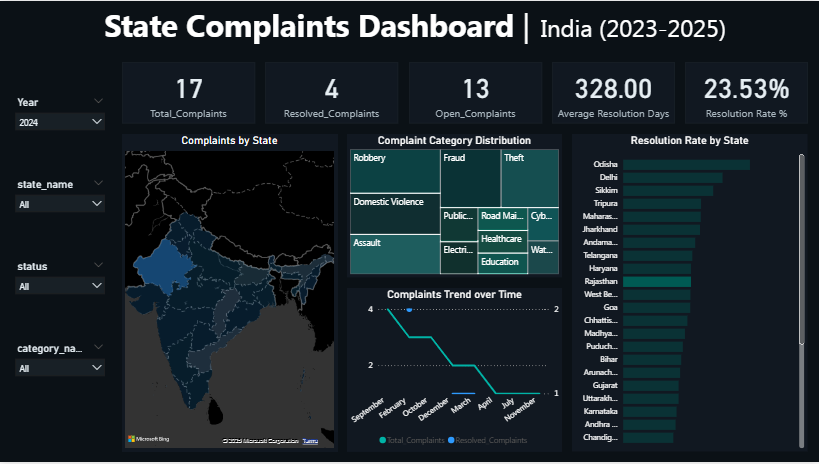

The dashboard page shown, as its layout file describes it:
{"tool":"powerbi","page":{"name":"Page 1","canvas":[1280,720],"ordinal":0},"visuals":[{"type":"card","fields":{"Values":["Base Measures.Average Resolution Days"]},"box":[864,96,192,96],"z":0},{"type":"card","fields":{"Values":["Base Measures.Resolution Rate %"]},"box":[1072,96,192,96],"z":1000},{"type":"card","fields":{"Values":["Base Measures.Open_Complaints"]},"box":[640,96,208,96],"z":2000},{"type":"card","fields":{"Values":["Base Measures.Resolved_Complaints"]},"box":[416,96,208,96],"z":3000},{"type":"card","fields":{"Values":["Base Measures.Total_Complaints"]},"box":[192,96,208,96],"z":4000},{"type":"slicer","fields":{"Values":["complaints_full.Year"]},"box":[16,144,160,64],"z":5000},{"type":"slicer","fields":{"Values":["states_full.state_name"]},"box":[16,272,160,80],"z":6000},{"type":"slicer","fields":{"Values":["complaints_full.status"]},"box":[16,400,160,64],"z":7000},{"type":"slicer","fields":{"Values":["categories_full.category_name"]},"box":[16,528,160,64],"z":8000},{"type":"filledMap","title":"Complaints by State","fields":{"Category":["states_full.state_name"]},"box":[192,208,336,496],"z":9000},{"type":"treemap","title":"Complaint Category Distribution","fields":{"Group":["categories_full.category_name"],"Values":["Base Measures.Total_Complaints"]},"box":[544,208,336,224],"z":10000},{"type":"clusteredBarChart","title":"Resolution Rate by State ","fields":{"Category":["states_full.state_name"],"Y":["Base Measures.Resolution Rate %"]},"box":[896,208,368,496],"z":11000},{"type":"lineChart","title":"Complaints Trend over Time","fields":{"Category":["complaints_full.Month"],"Y":["Base Measures.Total_Complaints"],"Y2":["Base Measures.Resolved_Complaints"]},"box":[544,448,336,256],"z":12000},{"type":"textbox","box":[160,0,1040,80],"z":13000}]}

Visuals, with their boxes in screenshot pixels (x1, y1, x2, y2), scaled from the page's 1280x720 canvas onto the 819x464 screenshot:
card - Base Measures.Average Resolution Days: box=[553, 62, 676, 124]
card - Base Measures.Resolution Rate %: box=[686, 62, 809, 124]
card - Base Measures.Open_Complaints: box=[410, 62, 543, 124]
card - Base Measures.Resolved_Complaints: box=[266, 62, 399, 124]
card - Base Measures.Total_Complaints: box=[123, 62, 256, 124]
slicer - complaints_full.Year: box=[10, 93, 113, 134]
slicer - states_full.state_name: box=[10, 175, 113, 227]
slicer - complaints_full.status: box=[10, 258, 113, 299]
slicer - categories_full.category_name: box=[10, 340, 113, 382]
"Complaints by State" filledMap: box=[123, 134, 338, 454]
"Complaint Category Distribution" treemap: box=[348, 134, 563, 278]
"Resolution Rate by State " clusteredBarChart: box=[573, 134, 809, 454]
"Complaints Trend over Time" lineChart: box=[348, 289, 563, 454]
textbox: box=[102, 0, 768, 52]
